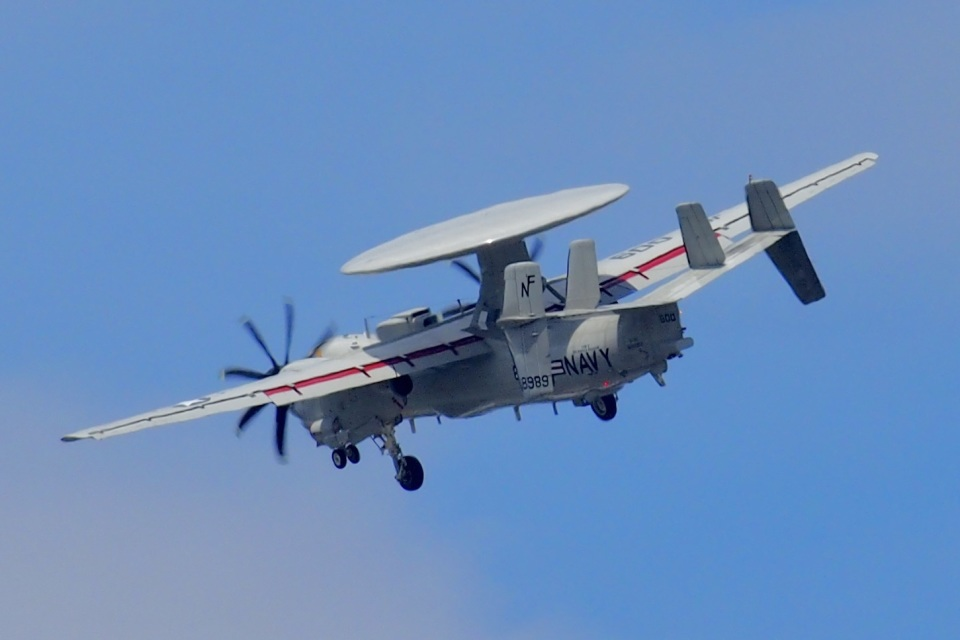E2: (60, 151, 880, 492)
